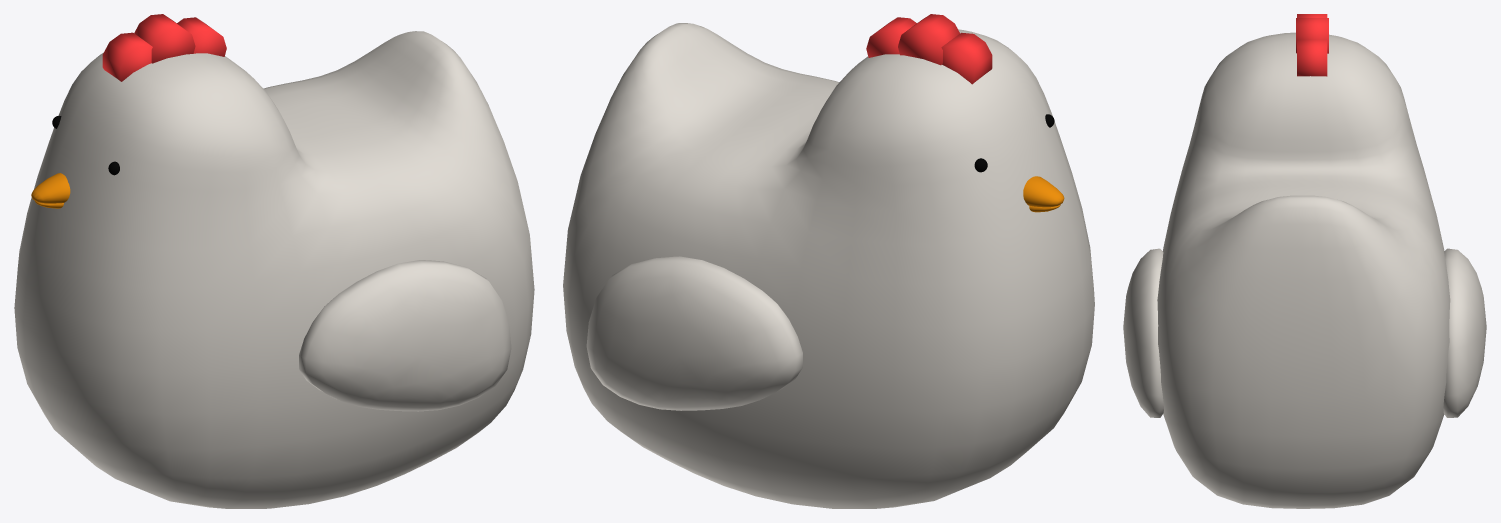
Rendered from hen_original.fbx.
3 renders of one model, left to right at view 1: azimuth 30°, elevation 25°; view 2: azimuth 150°, elevation 25°; view 3: azimuth 270°, elevation 25°, orthographic. The views are drawn at different scales.
Parts seen in each view (by area): view 1: Hen, WingL, Gobble, Beak; view 2: Hen, WingR, Gobble, Beak; view 3: Hen, WingR, WingL, Gobble.
Boxes of the visible parts, x1,y1,x2,y2 form: Hen: [14, 31, 534, 508]; WingL: [299, 260, 511, 411]; Gobble: [102, 14, 226, 81]; Beak: [31, 173, 70, 208]; Hen: [563, 23, 1094, 508]; WingR: [586, 256, 802, 410]; Gobble: [866, 14, 992, 84]; Beak: [1023, 176, 1064, 212]; Hen: [1157, 32, 1450, 508]; WingR: [1443, 248, 1486, 417]; WingL: [1123, 248, 1163, 417]; Gobble: [1296, 14, 1328, 76].
Bounding box in the file's own units: 75.73 × 76.97 × 62.55.
